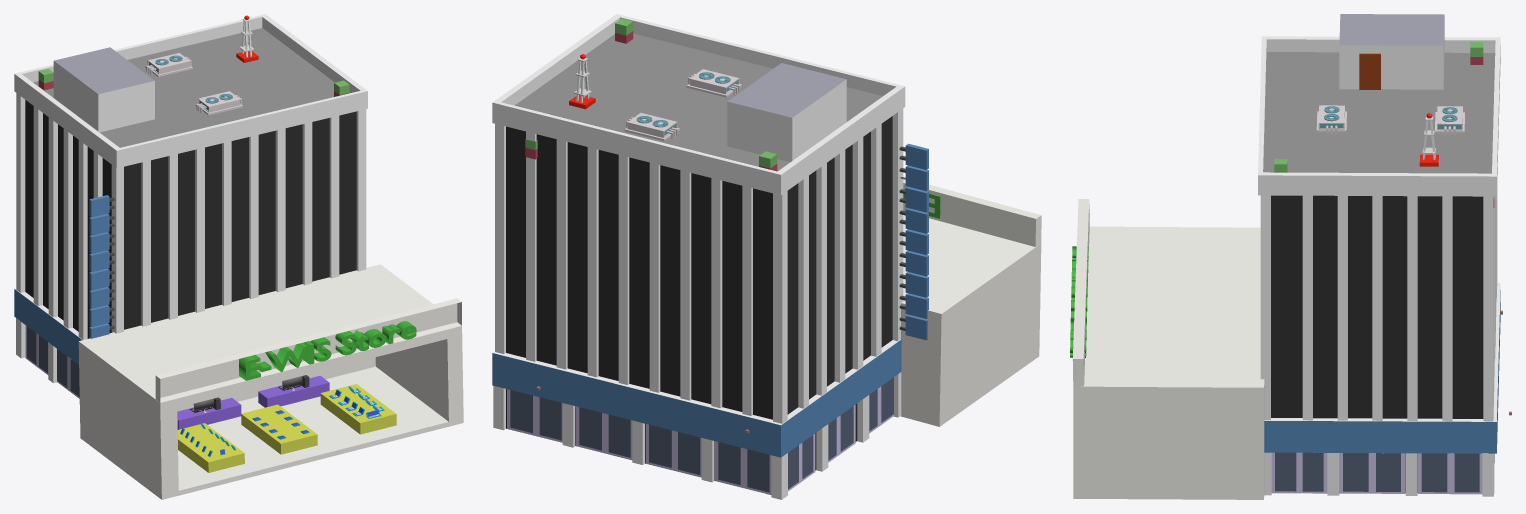
File: estore.glb
The picture shows the model from 3 angles, left to right: view 1: azimuth 30°, elevation 25°; view 2: azimuth 150°, elevation 25°; view 3: azimuth 270°, elevation 25°; orthographic projection. The views are drawn at different scales.
Parts seen in each view (by area): view 1: Board_2_2.088; view 2: Board_2_2.088; view 3: Board_2_2.088.
Part boxes in pixels (bbox=[...]): Board_2_2.088: bbox=[14, 14, 463, 499]; Board_2_2.088: bbox=[492, 14, 1041, 499]; Board_2_2.088: bbox=[1070, 14, 1511, 499].
Size of the model in its own units: 324 by 320 by 358.
